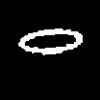chain: (19, 29, 81, 54)
